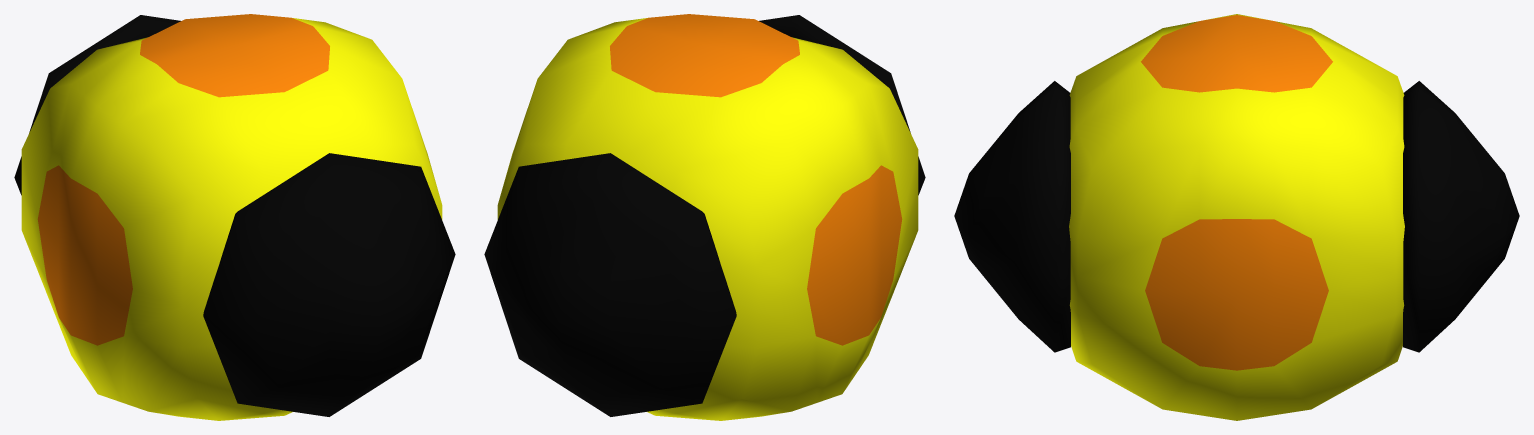
Rendered from big MegaMan Health.fbx.
The picture shows the model from 3 angles, left to right: view 1: azimuth 30°, elevation 25°; view 2: azimuth 150°, elevation 25°; view 3: azimuth 270°, elevation 25°; orthographic projection. The views are drawn at different scales.
Parts seen in each view (by area): view 1: Cube.001; view 2: Cube.001; view 3: Cube.001.
Part boxes in pixels (x1,y1,x2,y2): Cube.001: (14, 14, 455, 420); Cube.001: (484, 14, 925, 420); Cube.001: (954, 14, 1519, 420).
Bounding box in the file's own units: 255 × 255 × 394.
